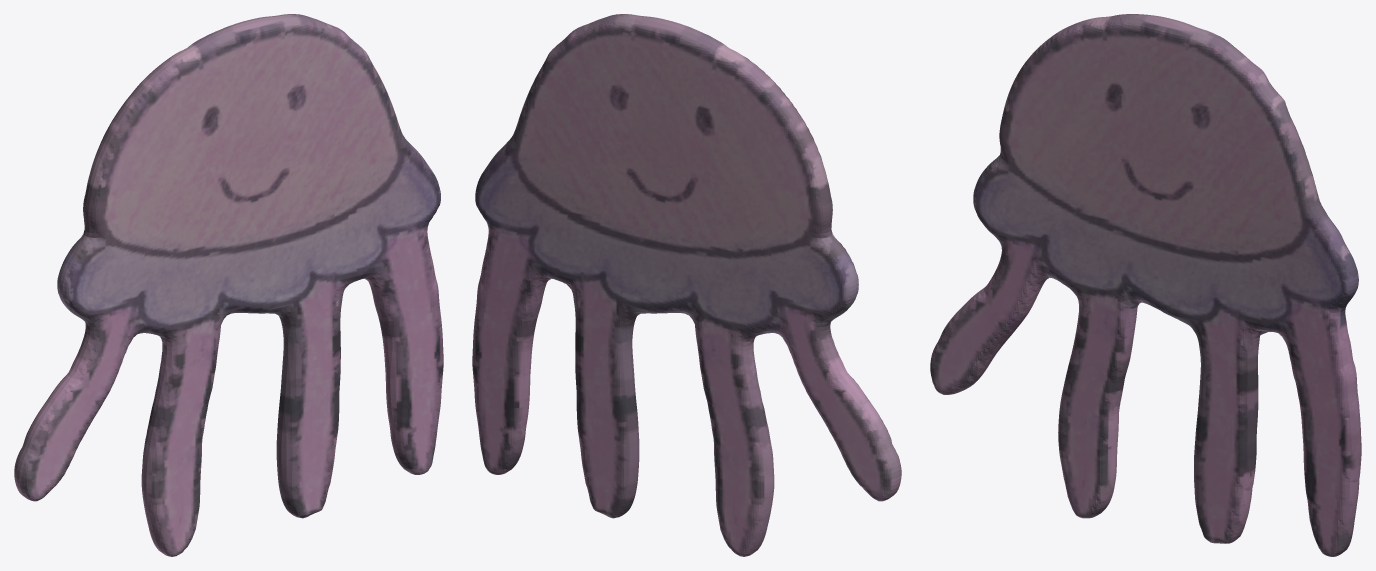
The model's file is jellyfish.gltf.
3 views of the same model, side by side, from view 1: azimuth 30°, elevation 25°; view 2: azimuth 150°, elevation 25°; view 3: azimuth 330°, elevation 25° (orthographic).
Bounding box in the file's own units: 0.1853 × 0.214 × 0.0101.
